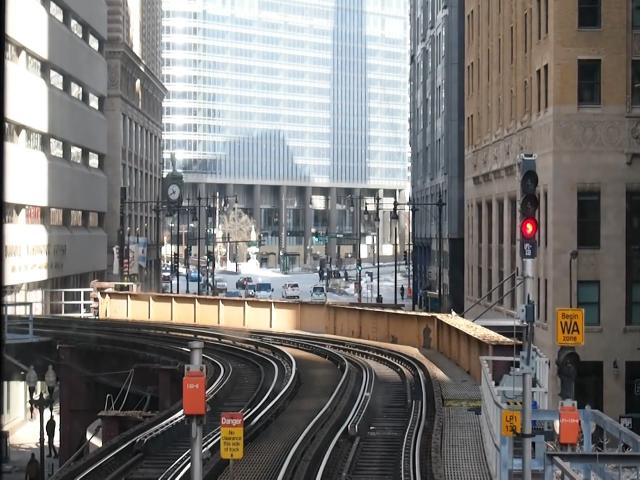signal light: (519, 168, 543, 265)
